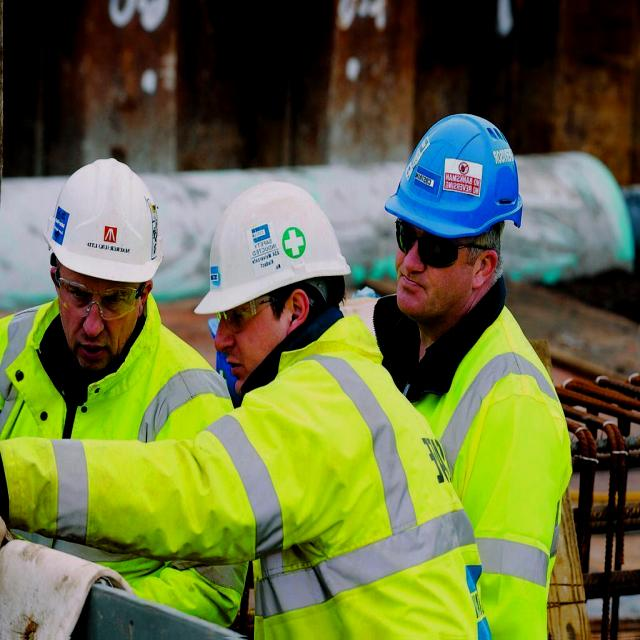face_nomask: (202, 280, 287, 405), (42, 276, 132, 370), (394, 225, 454, 323)
glasses: (52, 273, 144, 322), (392, 216, 462, 269), (214, 292, 266, 330)
head_helmet: (191, 177, 354, 316), (384, 86, 524, 215), (42, 154, 164, 284)
person: (191, 190, 458, 640), (378, 110, 574, 638), (0, 157, 203, 567)
vest: (235, 311, 469, 640), (1, 296, 230, 602), (437, 296, 575, 640)
